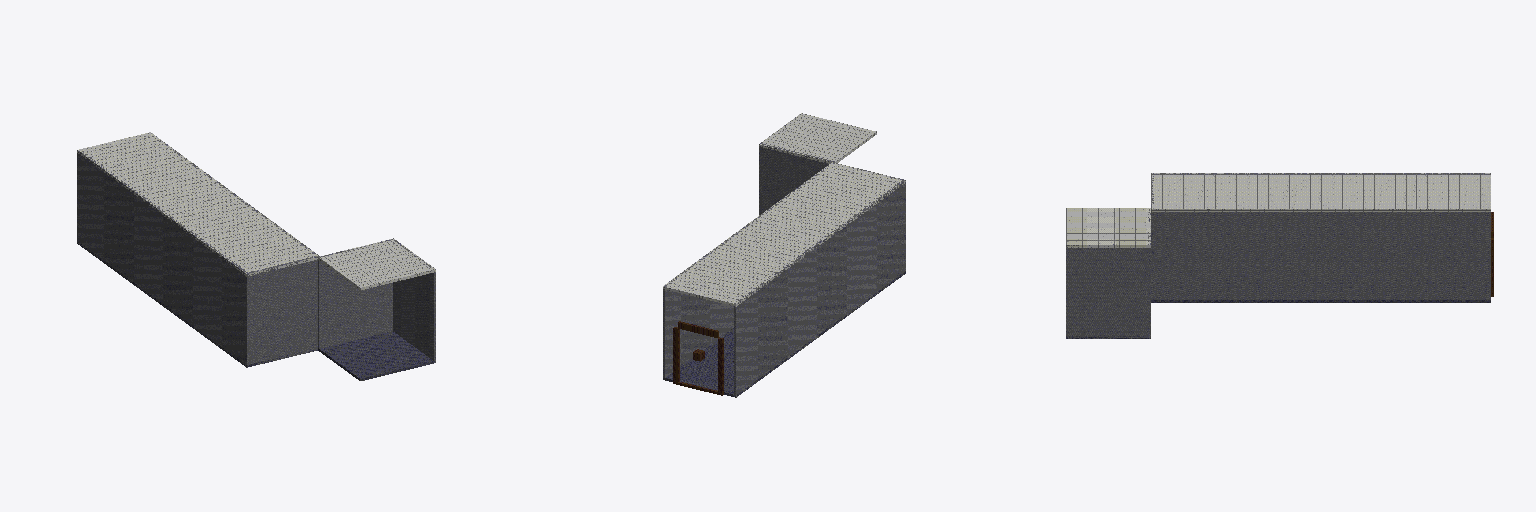
The picture shows the model from 3 angles: view 1: azimuth 30°, elevation 25°; view 2: azimuth 150°, elevation 25°; view 3: azimuth 270°, elevation 25°; orthographic projection.
Parts seen in each view (by area): view 1: Wall_L, Ceiling, Wall_BackHint, Wall_Turn_Back, Ceiling_Turn, Floor_Turn, Wall_Turn_End; view 2: Wall_L, Ceiling, Wall_R, Ceiling_Turn, Wall_Turn_Back, Floor; view 3: Wall_R, Ceiling, Wall_Turn_End, Ceiling_Turn, Floor, Wall_L.
Part boxes in pixels (bbox=[...]): Wall_L: bbox=[77, 150, 248, 364]; Ceiling: bbox=[77, 132, 319, 276]; Wall_BackHint: bbox=[245, 255, 318, 367]; Wall_Turn_Back: bbox=[318, 239, 392, 348]; Ceiling_Turn: bbox=[318, 239, 435, 289]; Floor_Turn: bbox=[318, 331, 434, 380]; Wall_Turn_End: bbox=[392, 238, 435, 362]; Wall_L: bbox=[734, 179, 905, 396]; Ceiling: bbox=[663, 162, 905, 306]; Wall_R: bbox=[663, 163, 830, 377]; Ceiling_Turn: bbox=[759, 113, 876, 163]; Wall_Turn_Back: bbox=[759, 143, 834, 213]; Floor: bbox=[663, 271, 905, 397]; Wall_R: bbox=[1151, 209, 1490, 302]; Ceiling: bbox=[1151, 173, 1490, 211]; Wall_Turn_End: bbox=[1066, 244, 1150, 338]; Ceiling_Turn: bbox=[1066, 208, 1150, 247]; Floor: bbox=[1151, 300, 1490, 302]; Wall_L: bbox=[1151, 173, 1490, 174].
Bounding box in the file's own units: 6 × 3.65 × 15.1.
4 materials, 4 textured.